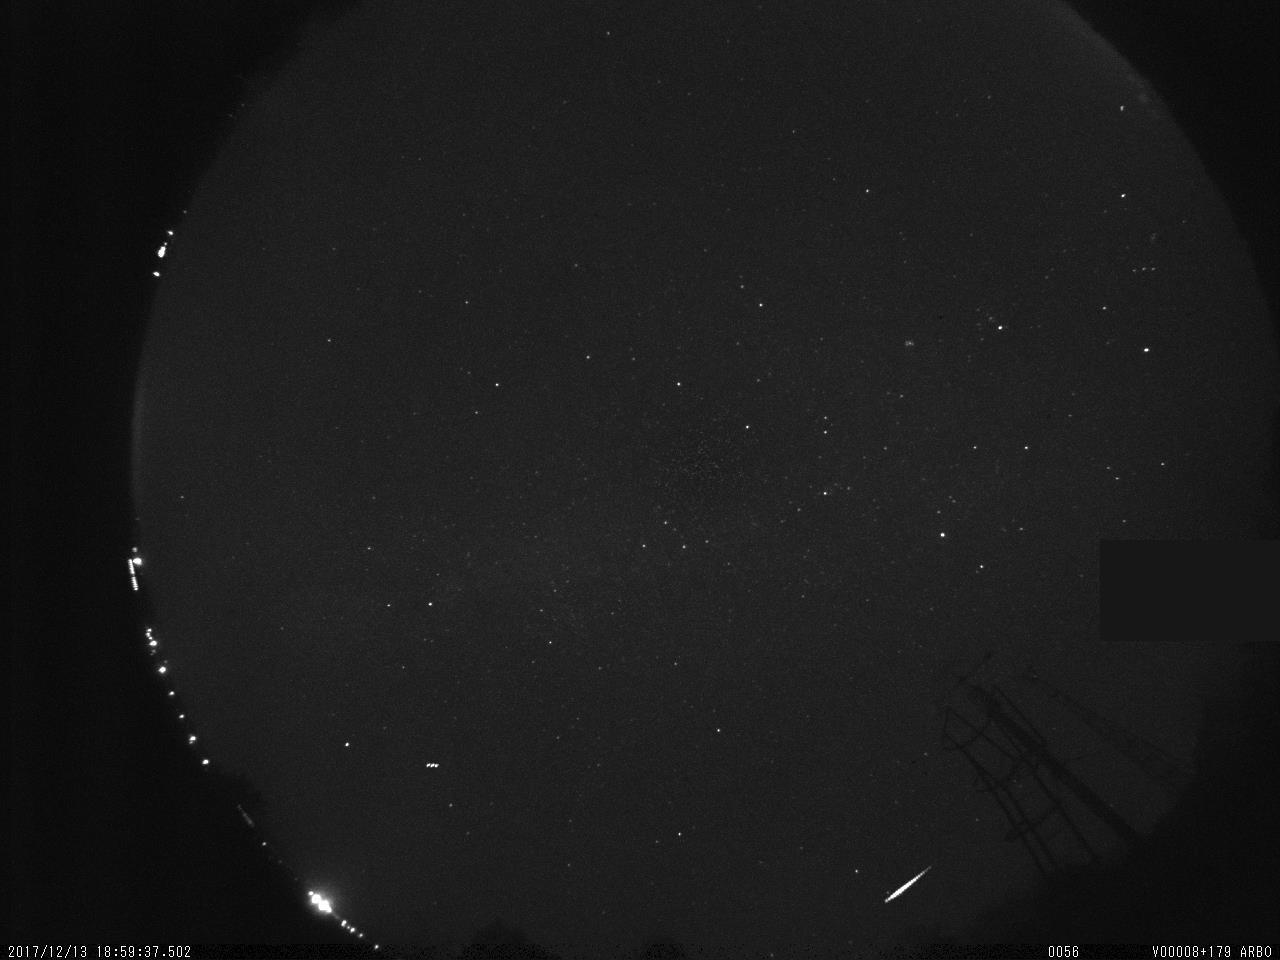meteor: (873, 853, 948, 912)
